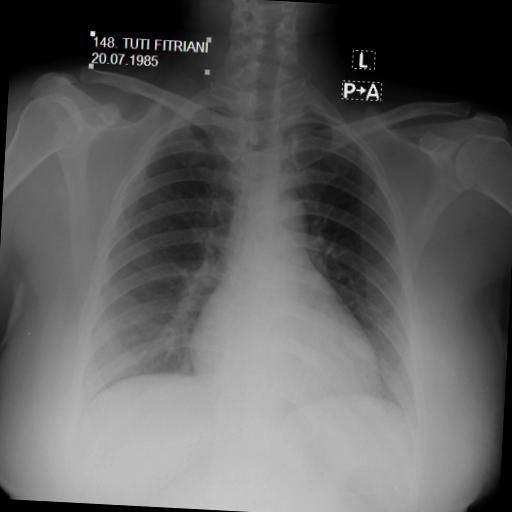kardiomegali: (61, 78, 440, 440)
